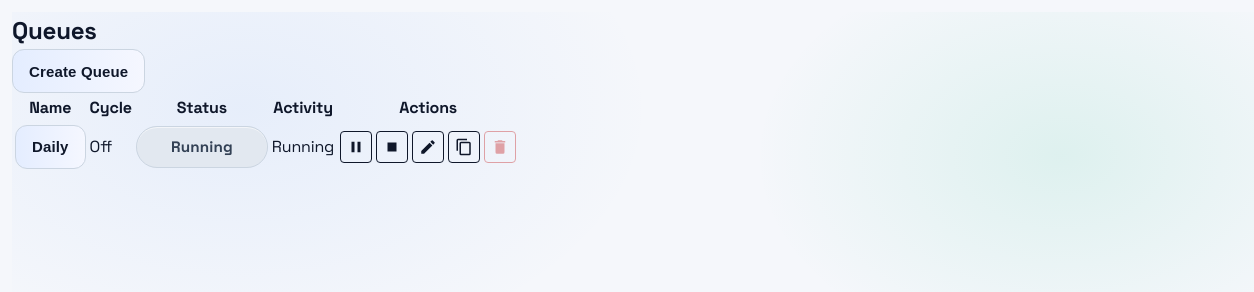
Scenario: QueuesPage start/stop › stops a running queue
Expected: the button "Daily" is shown, [15,125,86,169]
Click the button named "Stop Daily": (392, 147) [376,131,408,163]
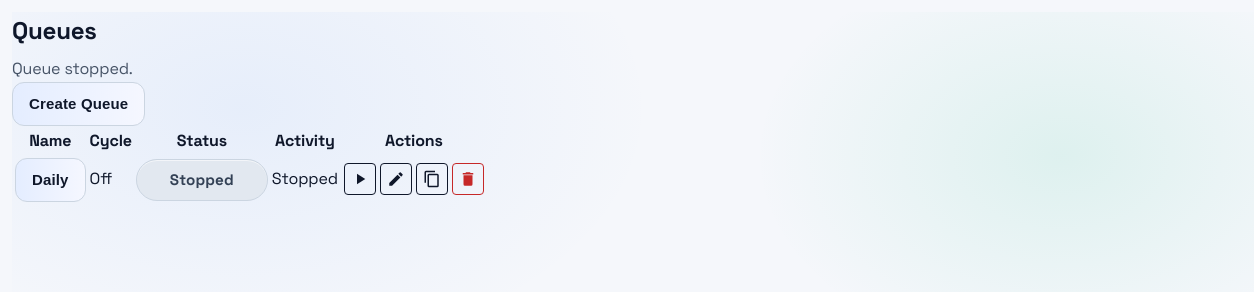
Expected: the text with test id "queue-status" reads "Stopped", [170,170,234,189]
